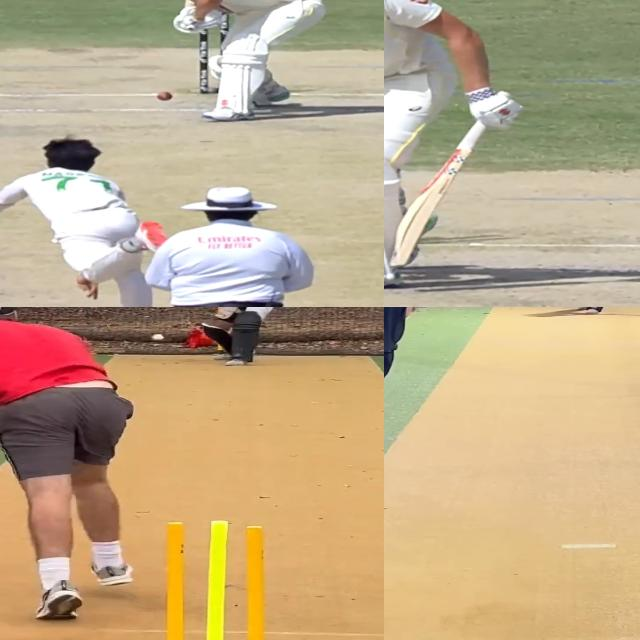Cricket ball: (156, 91, 174, 102), (152, 334, 167, 343)
Stumps: (147, 519, 281, 640)
